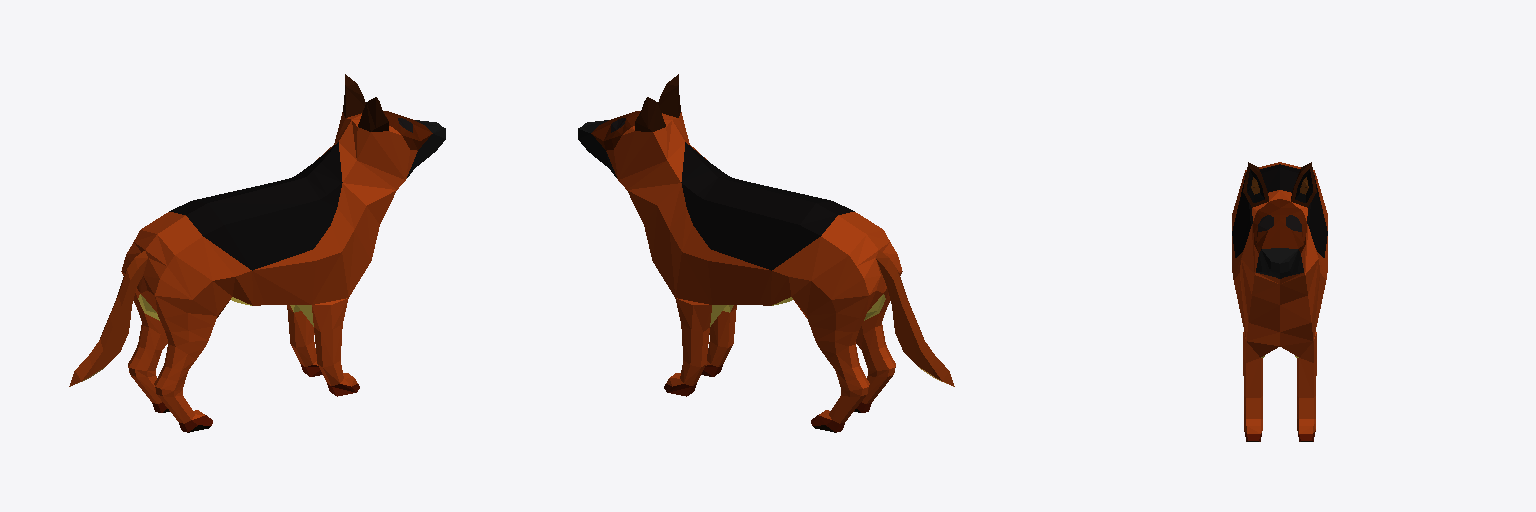
File: dog_reference.obj
3 renders of one model, left to right at view 1: azimuth 30°, elevation 25°; view 2: azimuth 150°, elevation 25°; view 3: azimuth 270°, elevation 25°, orthographic.
Size of the model in its own units: 5.18 by 3.84 by 1.15.